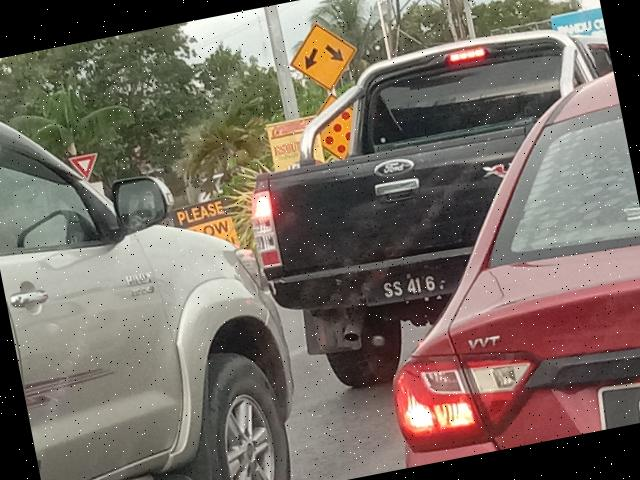License_Plate: (365, 267, 451, 305)
car: (230, 6, 640, 396), (1, 58, 337, 480), (341, 72, 640, 469)
